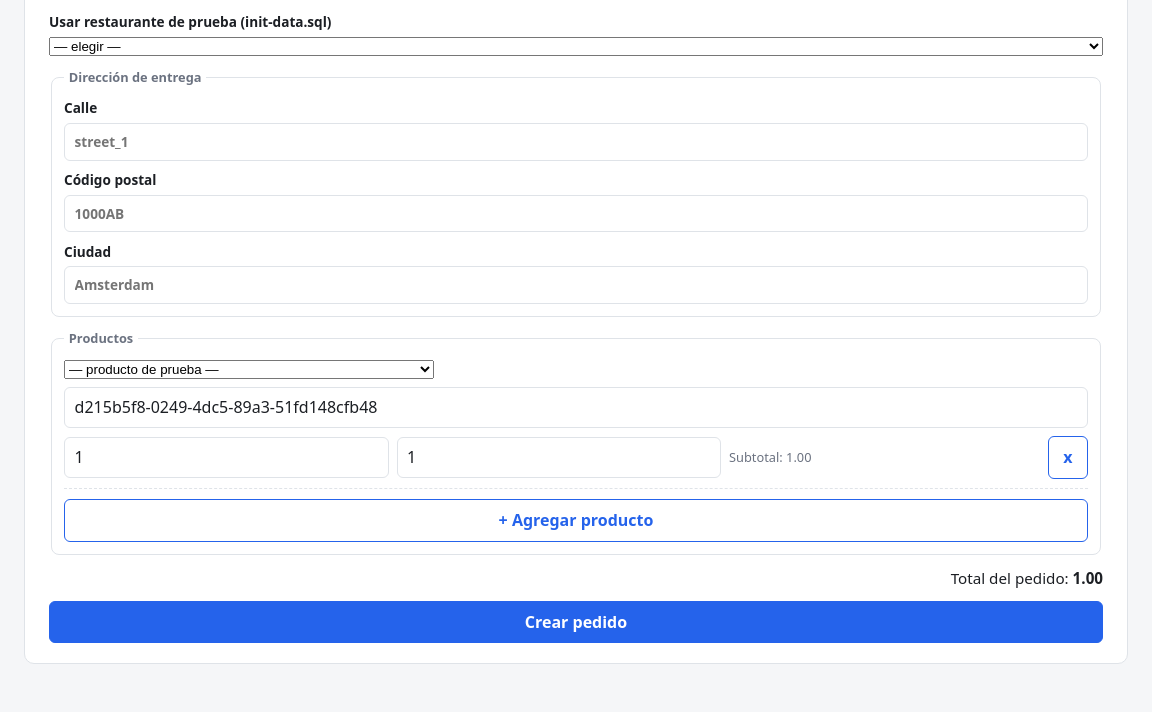
Test case: CreateOrderForm › editing a row's quantity/price recalculates that row's subtotal and the total
(page scrolled)
Replace the text in the 1st number field with placeholder "cantidad" with "3" at (226, 457), box x1=64 y1=437 x2=388 y2=478
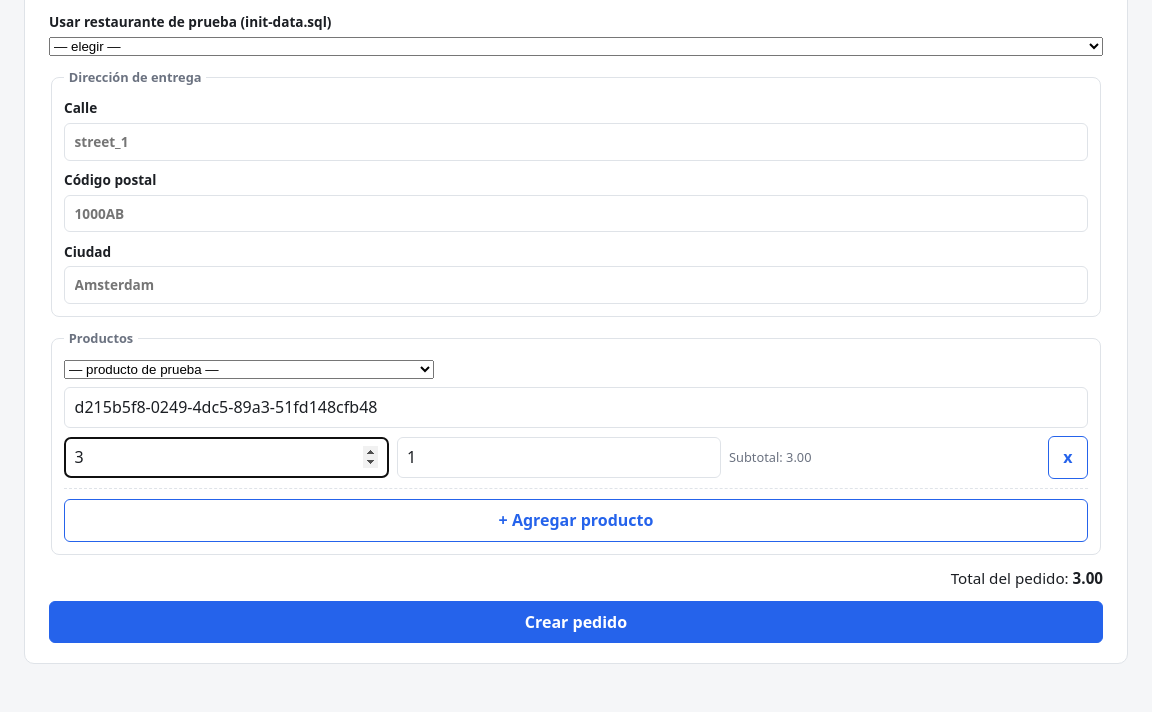
Replace the text in the 2nd number field with placeholder "precio unitario" with "2.5" at (559, 457), box x1=396 y1=437 x2=721 y2=478
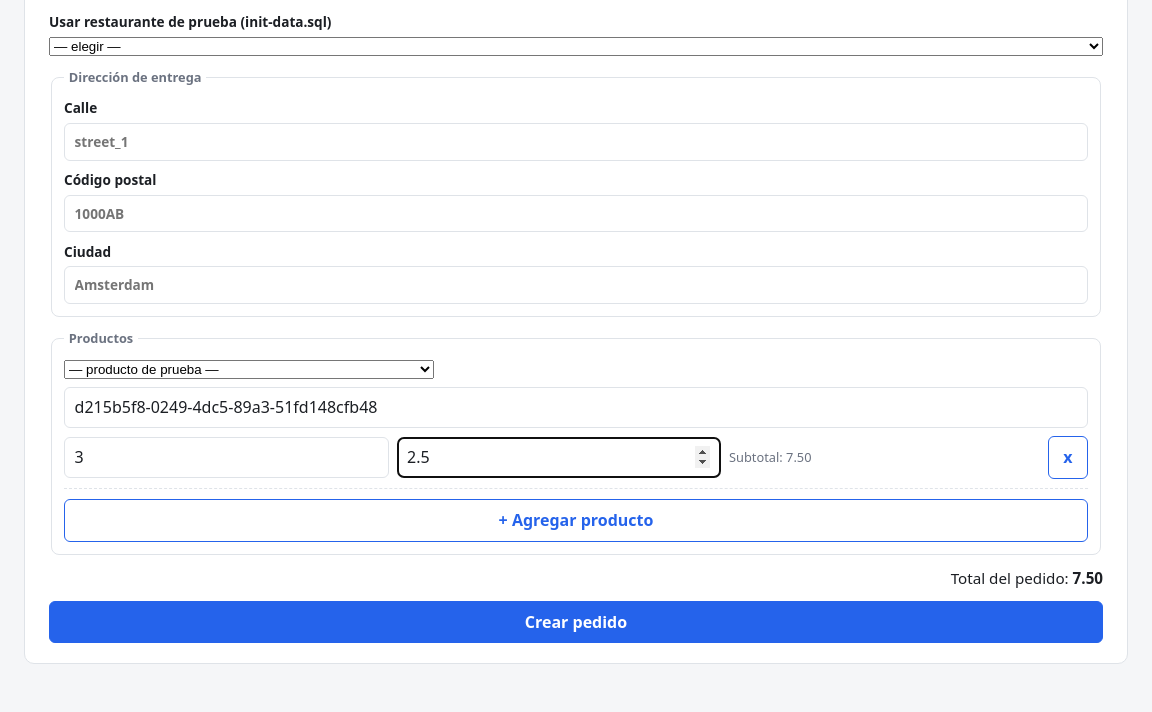
Check: the text "7.50" next to "Subtotal:" is shown, box x1=786 y1=448 x2=812 y2=466
Check: the text with id "orderTotal" reads "7.50", box x1=1073 y1=568 x2=1103 y2=588
